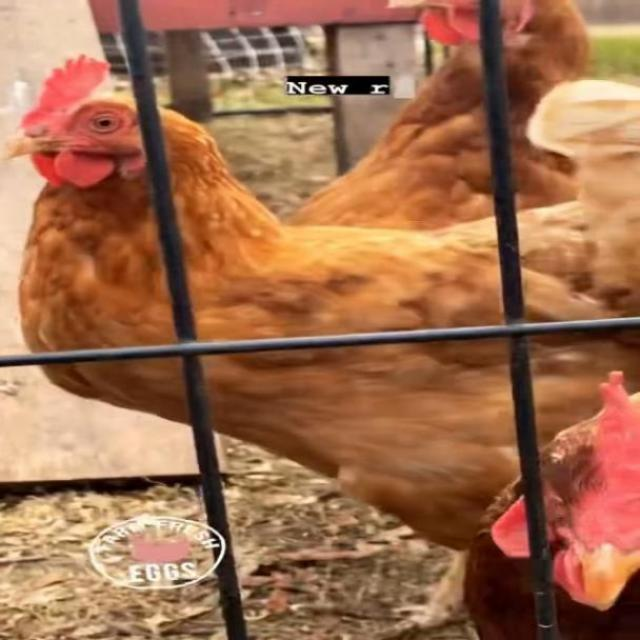Chicken: (0, 52, 640, 640), (279, 0, 592, 229), (459, 381, 640, 640)
